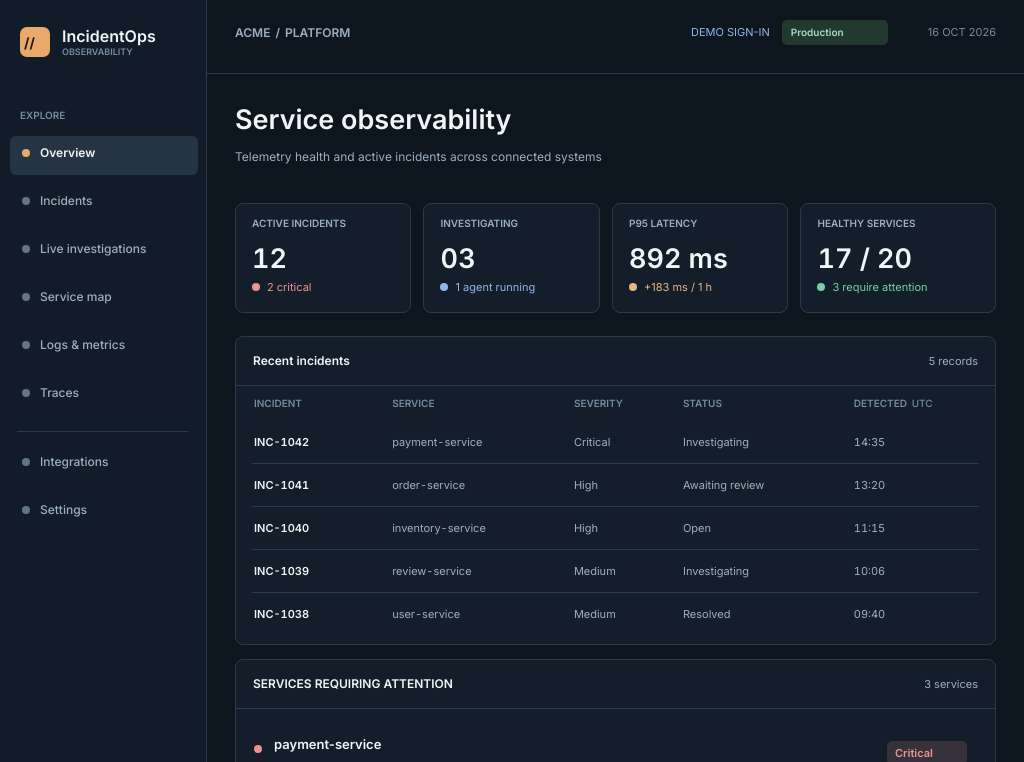
Test case: overview › opens Incident Detail with the selected incident ID
What coordinates should you click on to do the following:
click the link to "/incidents/INC-1042"
I would click on:
 (282, 442)
Its box is [254,435,309,449].
(page scrolled)
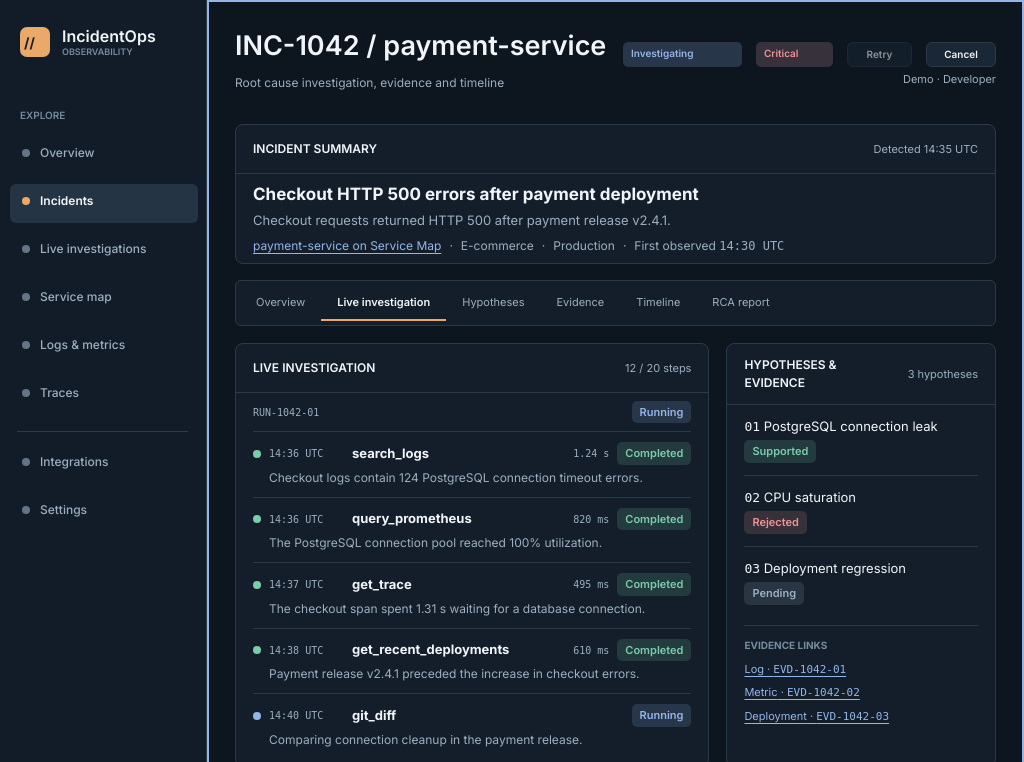
Now the heading "INC-1042 / payment-service" is shown, box [235,26,606,66]
